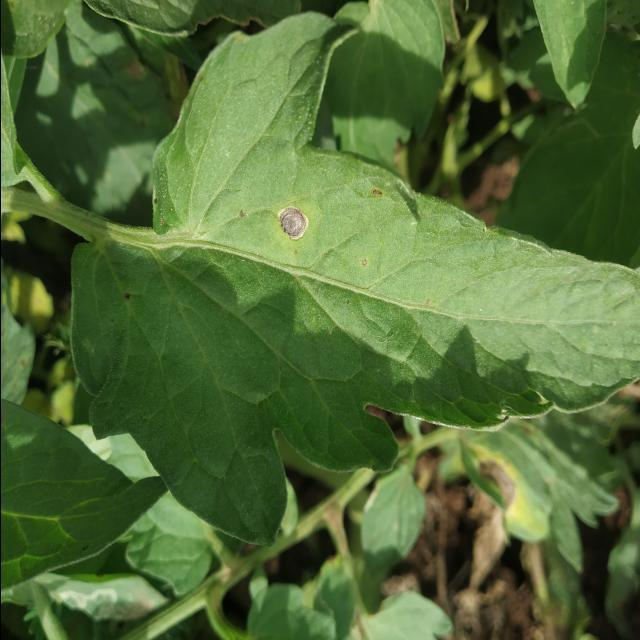Tomato mosaic virus leaf: (68, 156, 529, 452)
